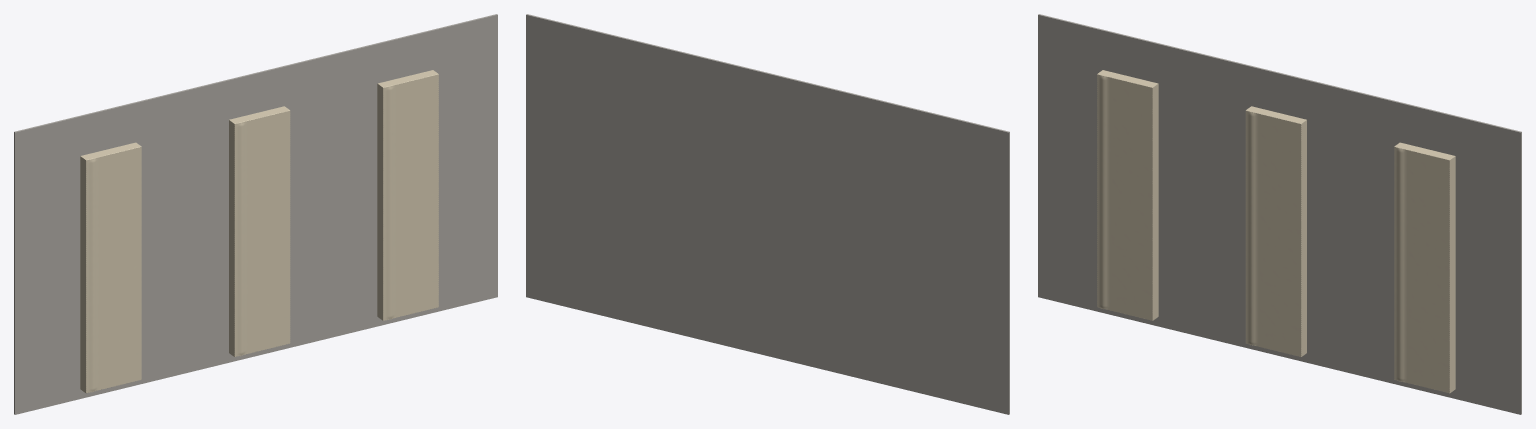
Rendered from terilgan.glb.
3 renders of one model, left to right at view 1: azimuth 30°, elevation 25°; view 2: azimuth 150°, elevation 25°; view 3: azimuth 330°, elevation 25°, orthographic.
Parts seen in each view (by area): view 1: Devor, t1, t0, t2; view 2: Devor; view 3: Devor, t1, t0, t2.
Part boxes in pixels (<box>): Devor: <box>14,14,497,414</box>; t1: <box>229,106,290,356</box>; t0: <box>80,142,141,393</box>; t2: <box>377,70,438,320</box>; Devor: <box>526,14,1009,414</box>; Devor: <box>1038,14,1521,414</box>; t1: <box>1245,106,1306,356</box>; t0: <box>1097,70,1158,320</box>; t2: <box>1394,142,1455,393</box>.
Bounding box in the file's own units: 2.6 × 1.45 × 0.0711.
